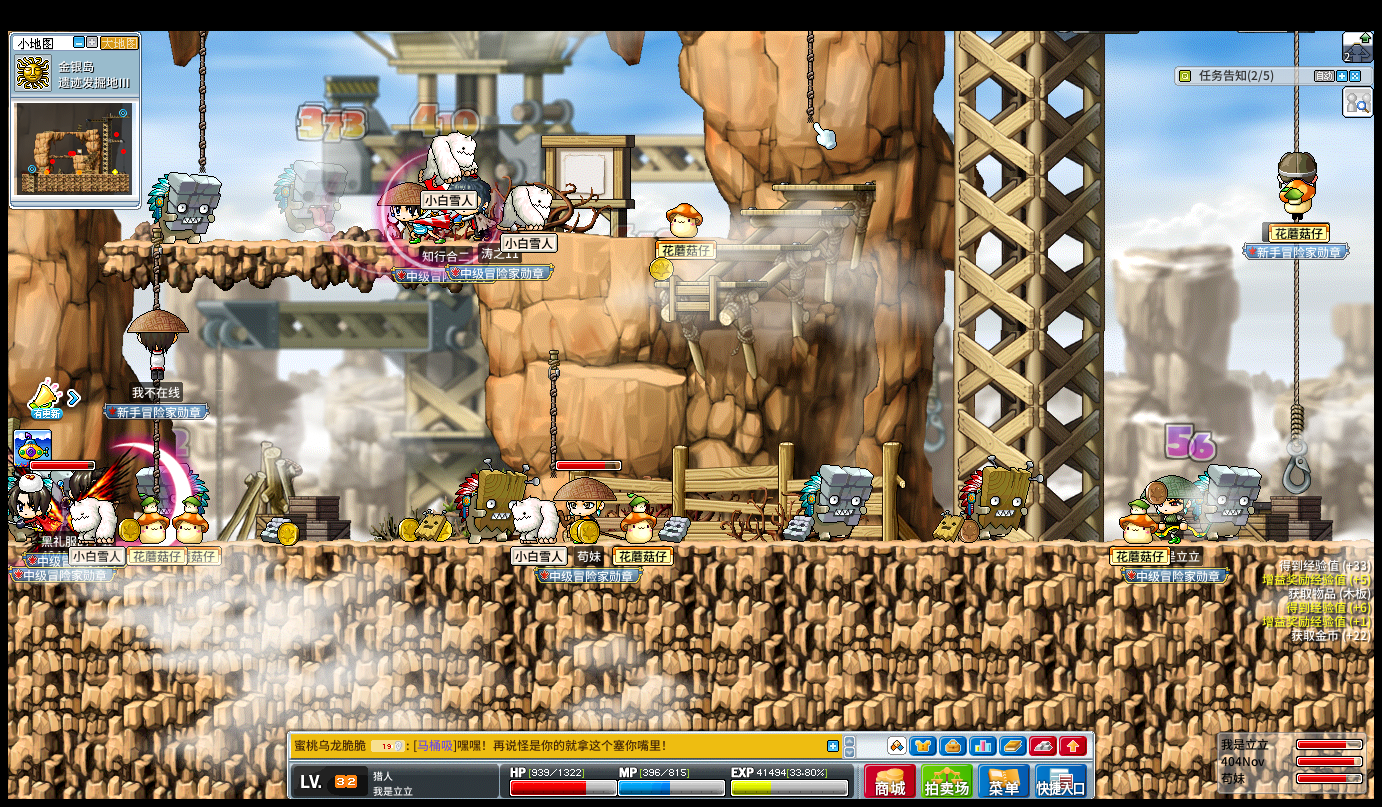floor: (102, 236, 471, 249), (578, 364, 688, 384), (602, 233, 739, 241), (649, 279, 765, 288), (734, 207, 848, 215), (770, 183, 874, 191), (707, 243, 811, 251)
monster: (960, 457, 1038, 541), (799, 464, 873, 542), (272, 159, 344, 239), (145, 170, 222, 244), (453, 462, 522, 541), (1198, 463, 1260, 541)
rope: (546, 349, 561, 474), (1291, 257, 1302, 405), (198, 29, 207, 174), (150, 233, 162, 308), (1292, 29, 1299, 148), (805, 29, 813, 123), (1288, 397, 1302, 446), (153, 419, 161, 471)
